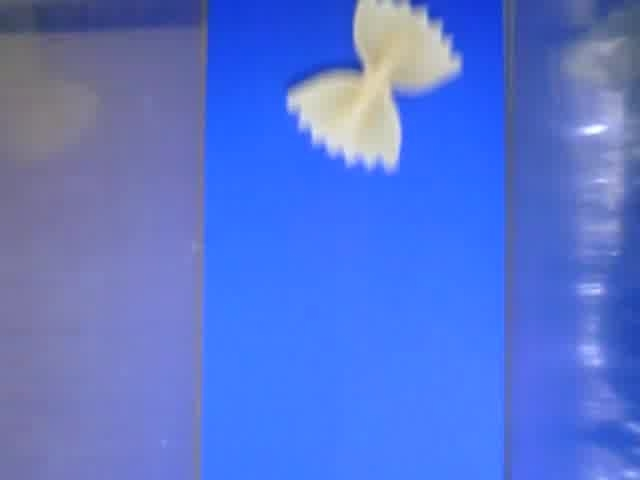farfalle: (285, 1, 462, 173)
